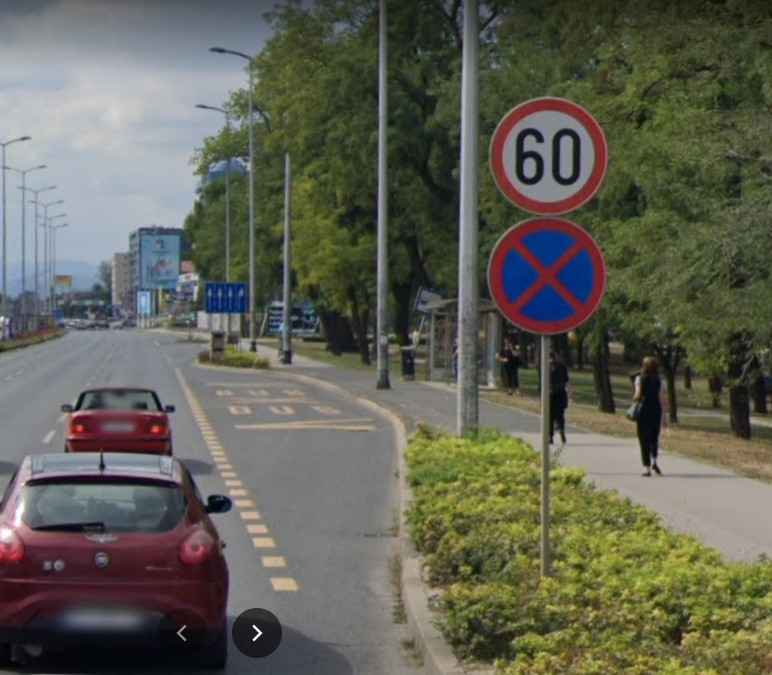Ograničenje brzine 60: (489, 96, 609, 215)
